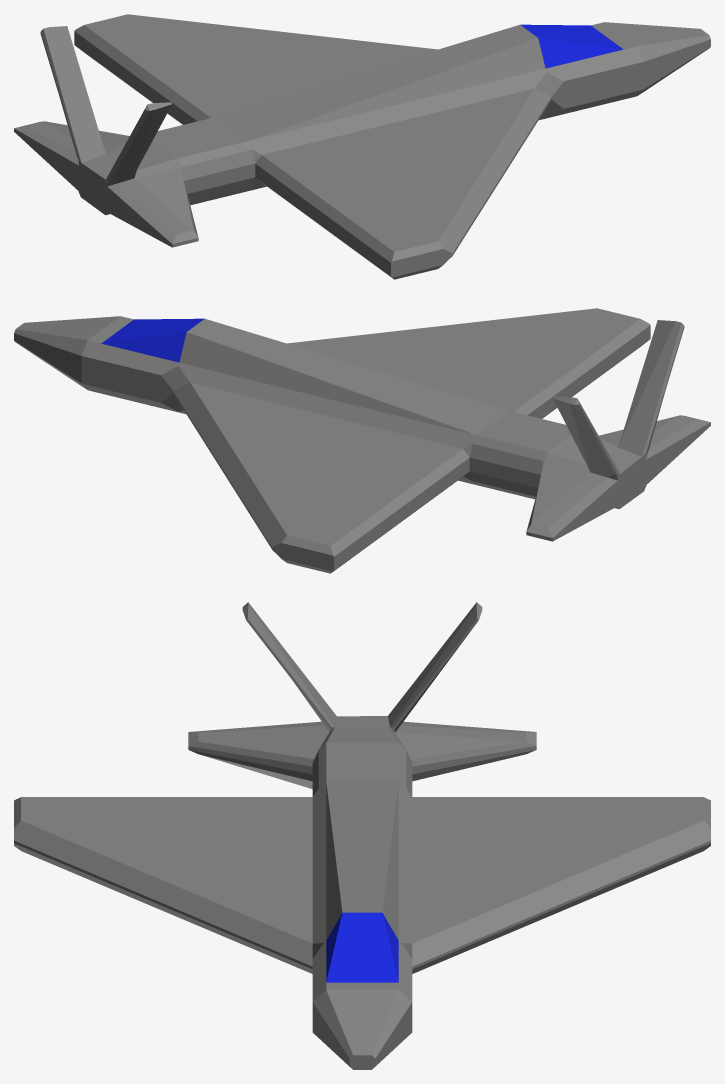
File: FighterJet.fbx
3 renders of one model, top to bottom at view 1: azimuth 30°, elevation 25°; view 2: azimuth 150°, elevation 25°; view 3: azimuth 270°, elevation 25°, orthographic. The views are drawn at different scales.
Parts seen in each view (by area): view 1: Cube; view 2: Cube; view 3: Cube.
Part boxes in pixels (<box>): Cube: <box>14,14,710,279</box>; Cube: <box>14,308,710,573</box>; Cube: <box>14,602,710,1069</box>.
Size of the model in its own units: 1562 by 356 by 1400.
